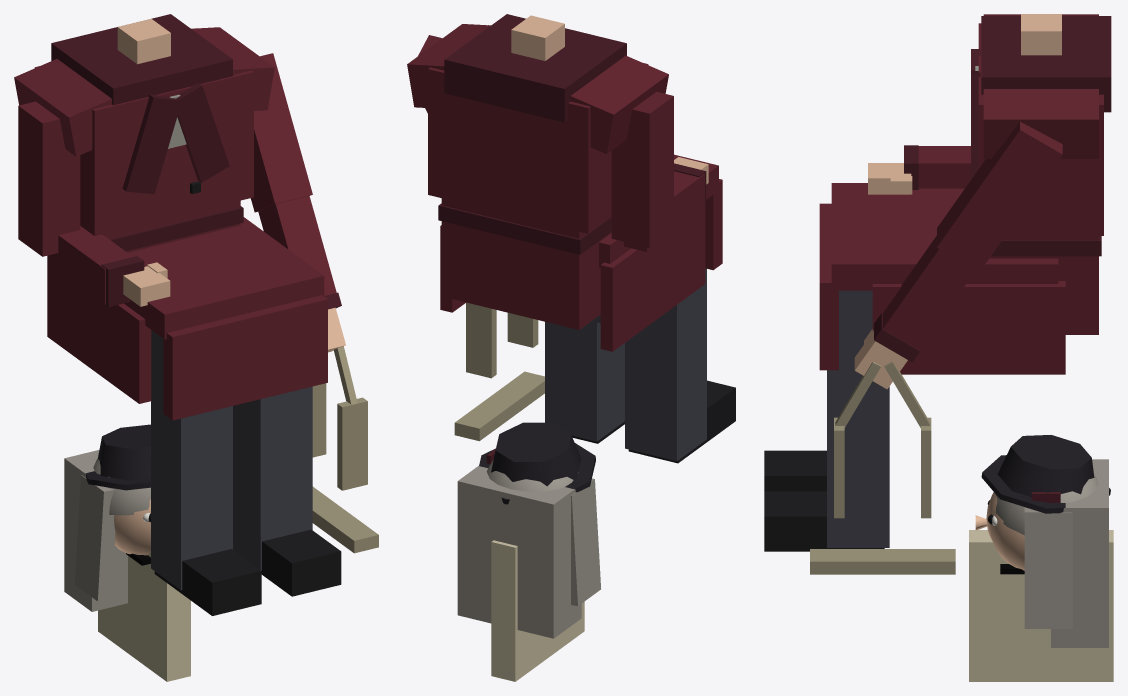
File: passenger_coat.fbx
The picture shows the model from 3 angles, left to right: view 1: azimuth 30°, elevation 25°; view 2: azimuth 150°, elevation 25°; view 3: azimuth 270°, elevation 25°; orthographic projection. The views are drawn at different scales.
Parts seen in each view (by area): view 1: Mesh_12, Mesh_13, Mesh_15, Mesh_8, Mesh_14, Mesh_1, Mesh_16, Body_Skin, Mesh_10, Head_Skin; view 2: Mesh_12, Mesh_13, Mesh_8, Mesh_15, Mesh_16, Mesh_1, Mesh_10, Body_Skin, Mesh_14; view 3: Mesh_12, Mesh_8, Mesh_15, Mesh_13, Mesh_1, Mesh_16, Mesh_14, Mesh_10, Body_Skin, Head_Skin.
Boxes of the visible parts, <box> form: Mesh_12: <box>14,27,336,420</box>; Mesh_13: <box>151,330,312,590</box>; Mesh_15: <box>51,14,341,309</box>; Mesh_8: <box>64,450,150,611</box>; Mesh_14: <box>154,181,341,615</box>; Mesh_1: <box>98,553,190,681</box>; Mesh_16: <box>312,346,378,553</box>; Body_Skin: <box>117,19,345,352</box>; Mesh_10: <box>85,424,150,490</box>; Head_Skin: <box>114,499,150,555</box>; Mesh_12: <box>407,24,722,351</box>; Mesh_13: <box>545,268,706,460</box>; Mesh_8: <box>457,460,600,638</box>; Mesh_15: <box>438,14,706,254</box>; Mesh_16: <box>454,302,544,441</box>; Mesh_1: <box>491,540,584,681</box>; Mesh_10: <box>479,422,595,504</box>; Body_Skin: <box>511,15,708,184</box>; Mesh_14: <box>572,380,735,463</box>; Mesh_12: <box>819,14,1103,374</box>; Mesh_8: <box>995,459,1108,647</box>; Mesh_15: <box>874,16,1111,362</box>; Mesh_13: <box>827,290,889,547</box>; Mesh_1: <box>969,530,1113,681</box>; Mesh_16: <box>810,361,955,574</box>; Mesh_14: <box>764,450,884,551</box>; Mesh_10: <box>981,435,1110,513</box>; Body_Skin: <box>854,14,1061,389</box>; Head_Skin: <box>975,492,1024,570</box>.
Size of the model in its own units: 0.6095 by 1.5 by 0.725.
